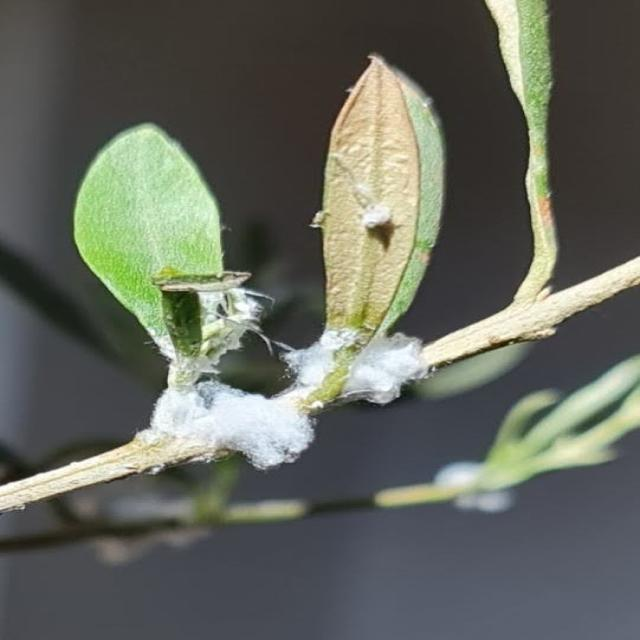Psyllid: (136, 378, 313, 470), (280, 330, 428, 407), (344, 178, 398, 238)
